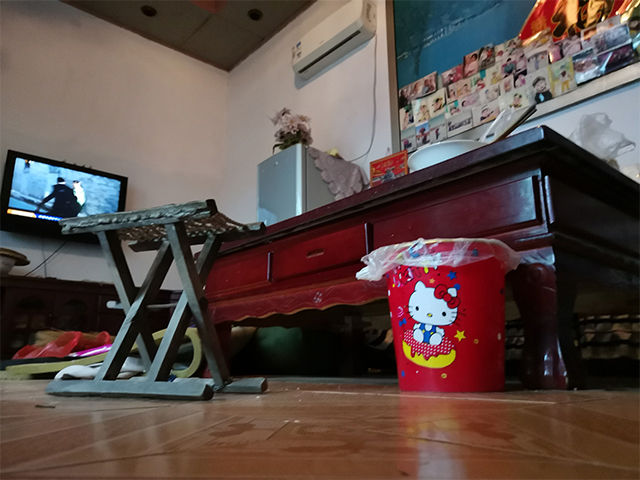stool: (41, 197, 271, 402)
table: (184, 123, 639, 392)
trashcan: (352, 235, 524, 395)
